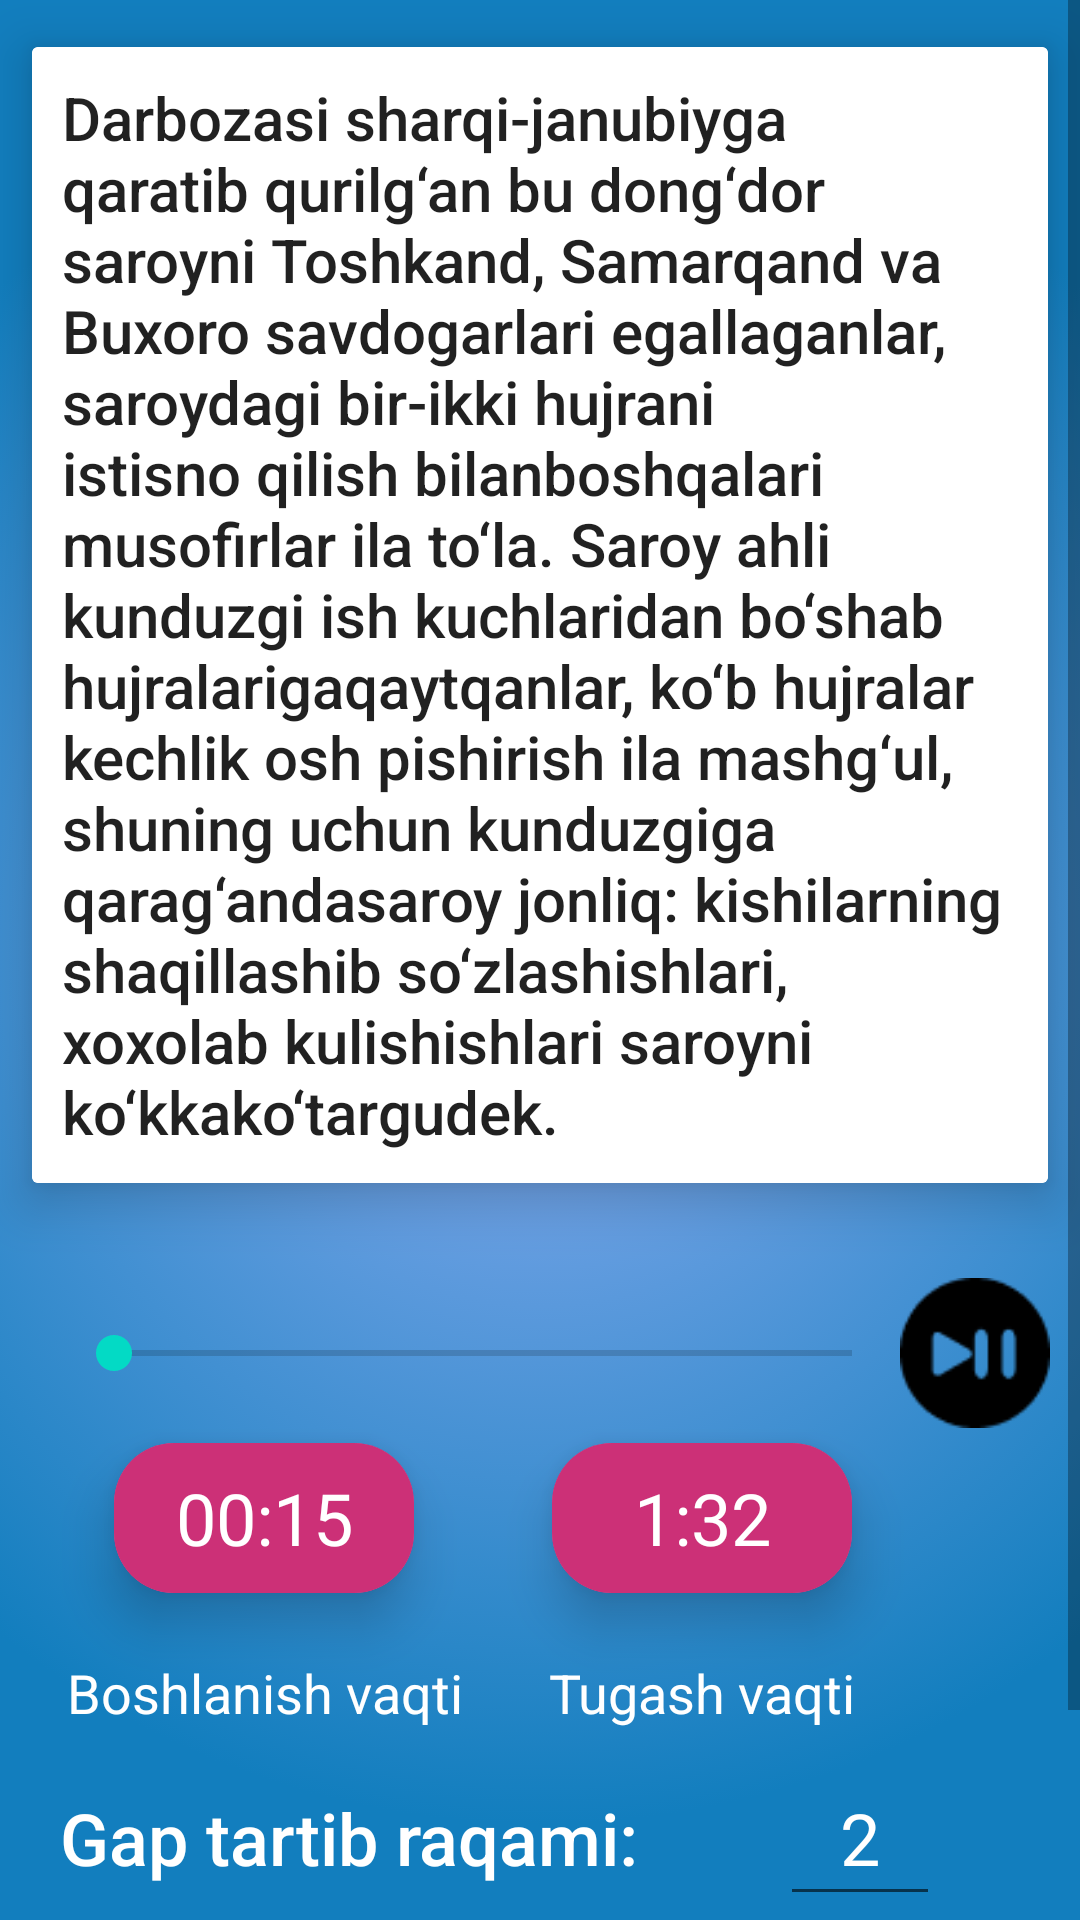

Where icons sit on this 1080 x 1920 app screen, as (x1, y1, x2, y2):
play: (900, 1278, 1050, 1428)
